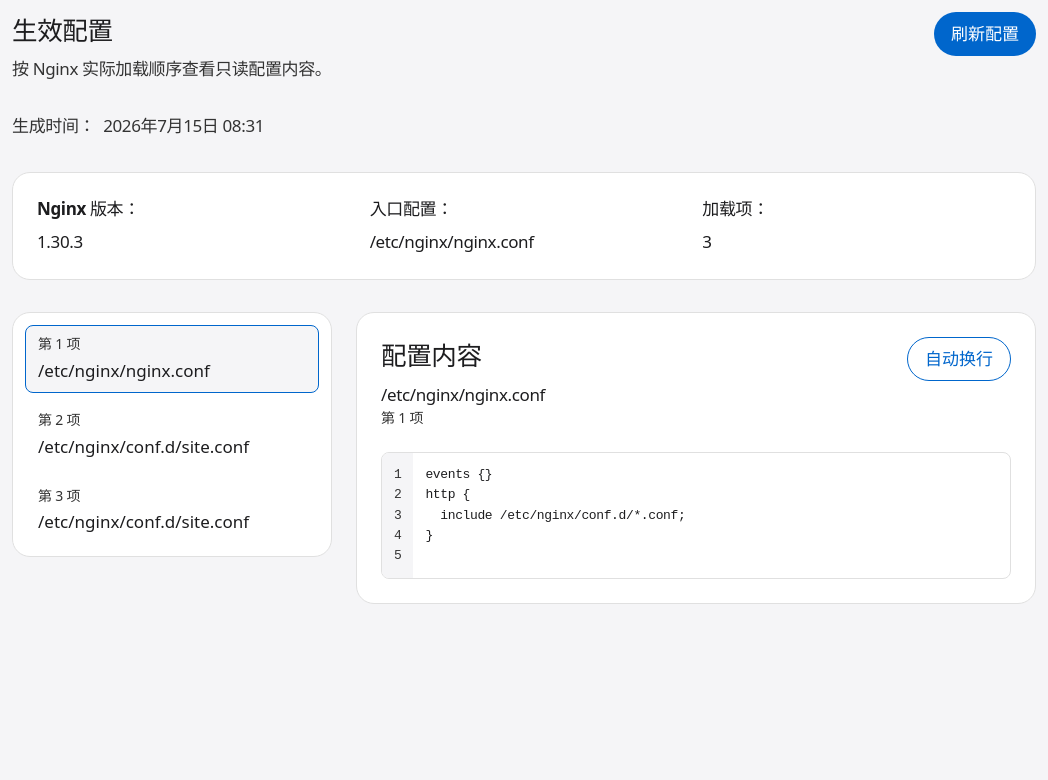
Scenario: EffectiveConfigView › refreshes on demand with a new AbortSignal and replaces the snapshot
Click the button with class "effective-config__refresh" at [985, 34], box 934,12 -> 1036,56
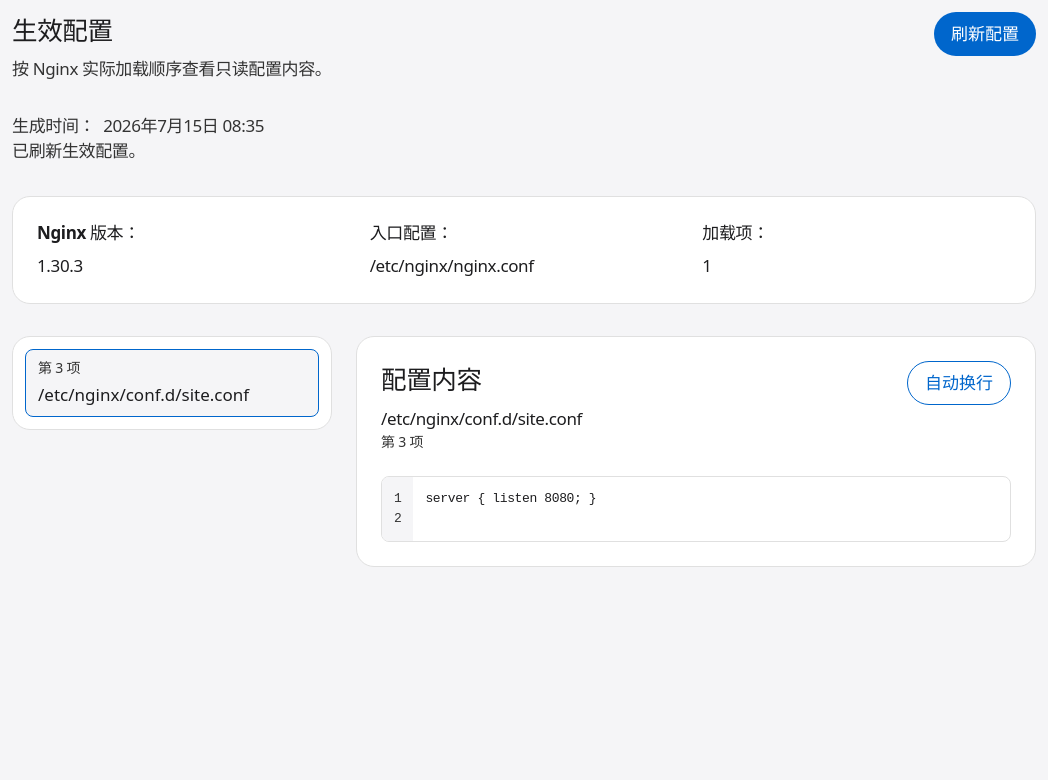
Check: the text "已刷新生效配置。" is shown, box 12,140 -> 145,162
